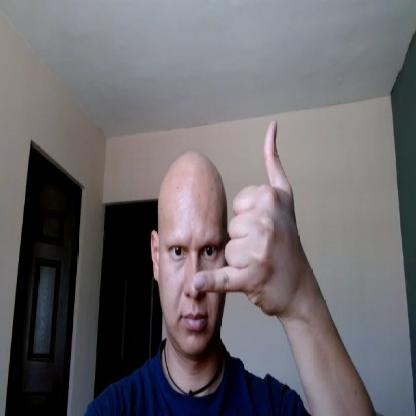Y: (193, 117, 296, 316)
